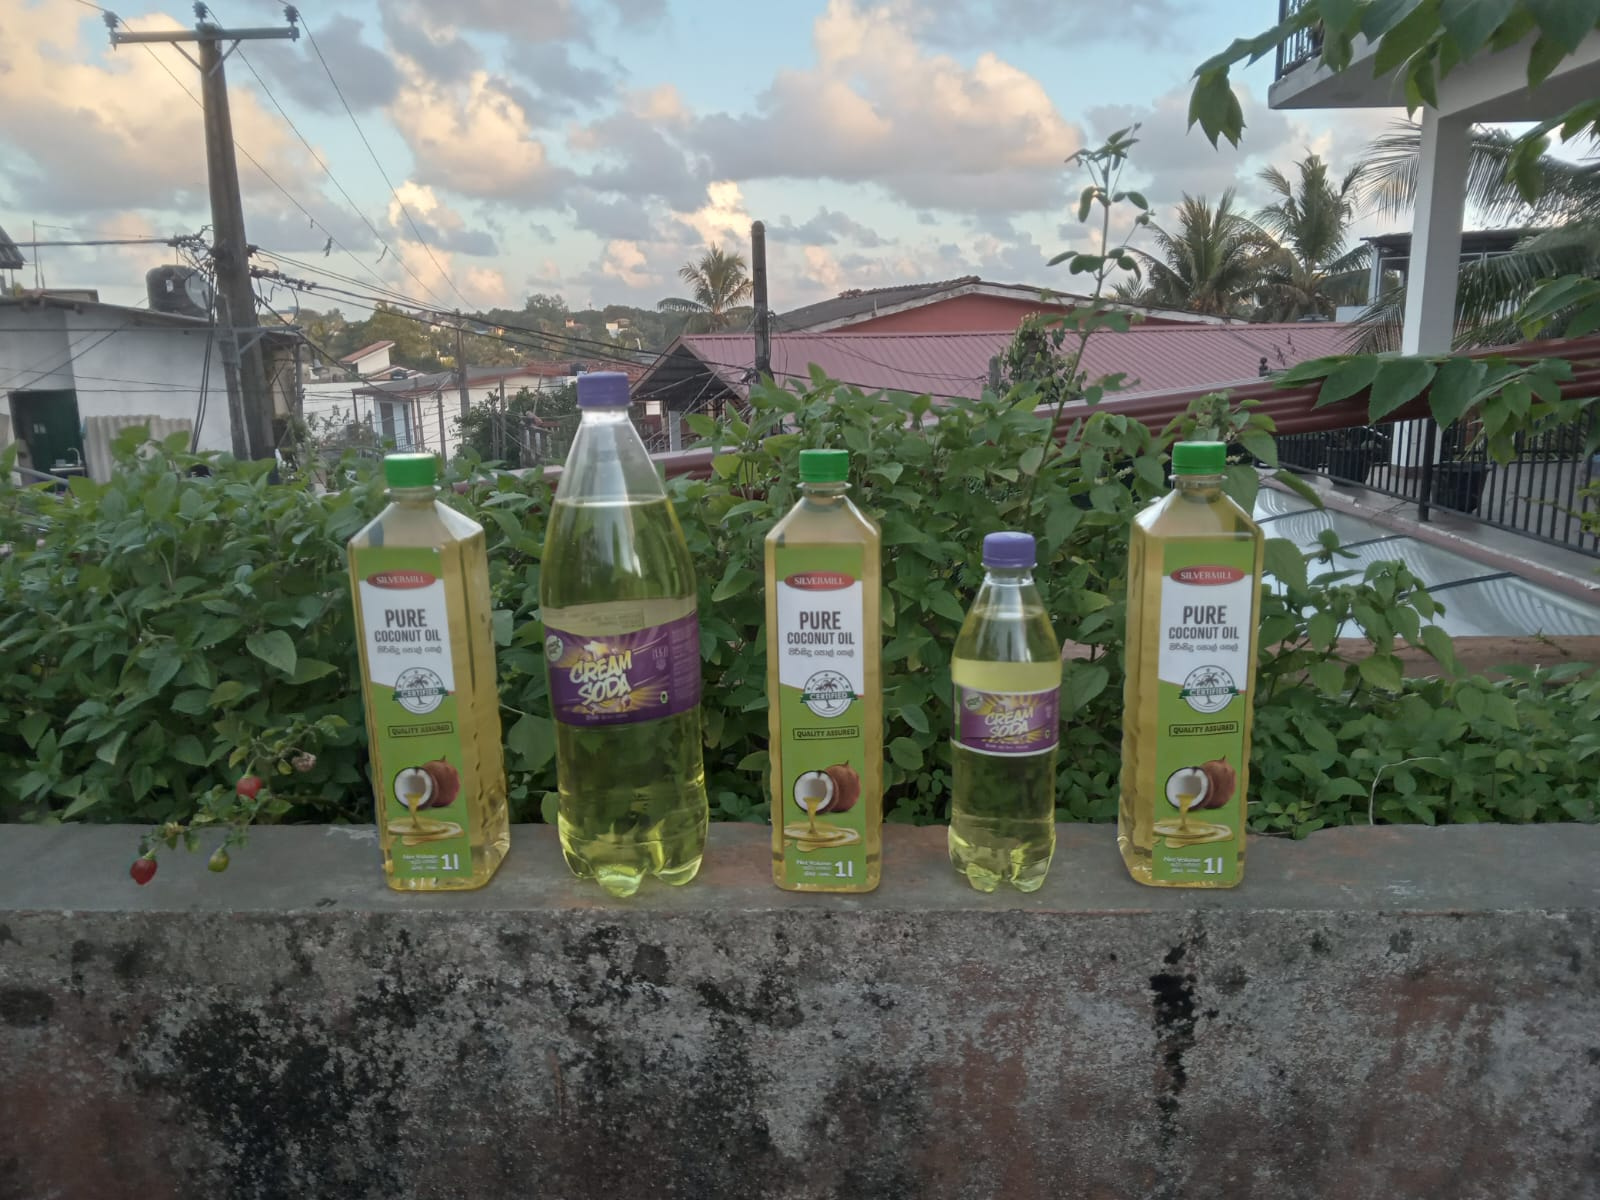L: (537, 369, 707, 887)
S: (947, 534, 1068, 890)
